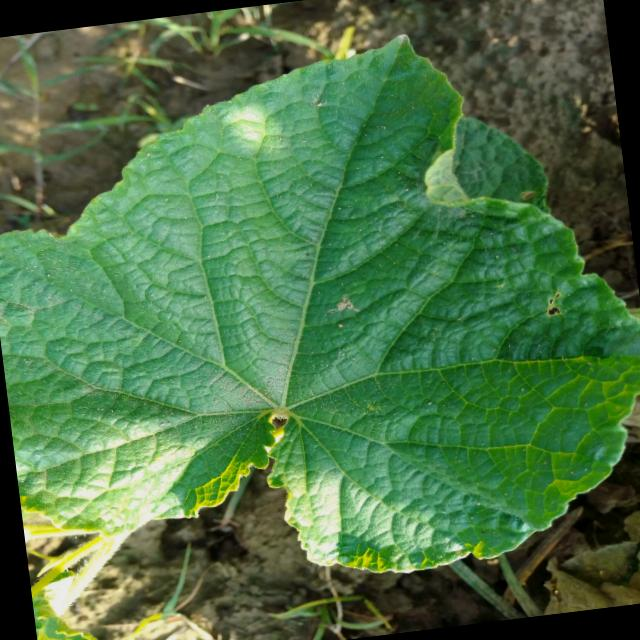cucumber_healthy: (0, 5, 640, 627)
